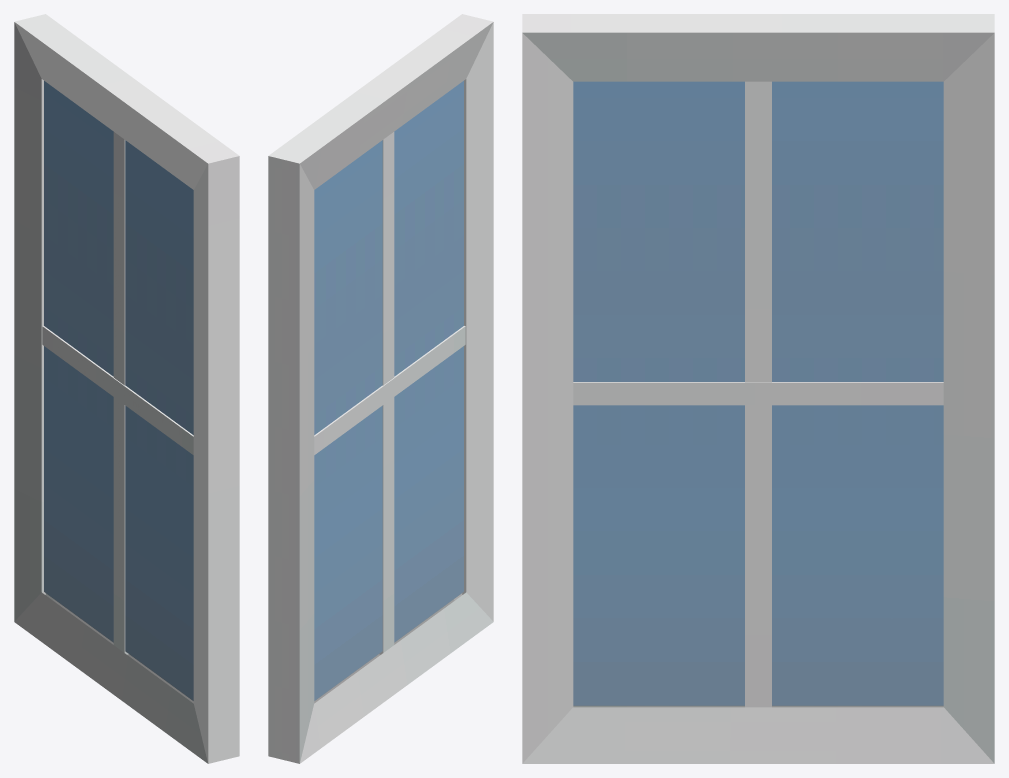
Rendered from CHAHIN_WINDOW.obj.
3 renders of one model, left to right at view 1: azimuth 30°, elevation 25°; view 2: azimuth 150°, elevation 25°; view 3: azimuth 270°, elevation 25°, orthographic. The views are drawn at different scales.
Visible parts, largest first — view 1: Cube.013_Cube.017; view 2: Cube.013_Cube.017; view 3: Cube.013_Cube.017.
Part boxes in pixels (box(x1,y1,x2,y2)): Cube.013_Cube.017: box(14, 14, 239, 763); Cube.013_Cube.017: box(268, 14, 493, 763); Cube.013_Cube.017: box(522, 14, 994, 763).
Bounding box in the file's own units: 0.1258 × 2.29 × 1.34.
Materials: 1 (1 with a texture image).
